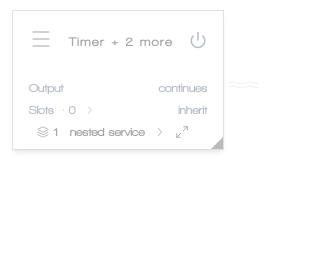
a sub-service inside a use of a block › folds its pipeline open in place
Click the button titled "Show content inline" at coordinates (160, 132), box [153, 125, 167, 139]
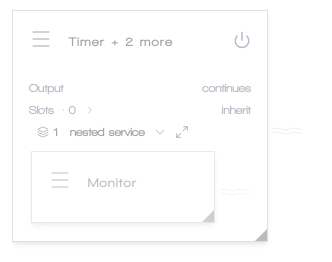
Now the button titled "Hide inline content" is shown, box [153, 125, 167, 139]
